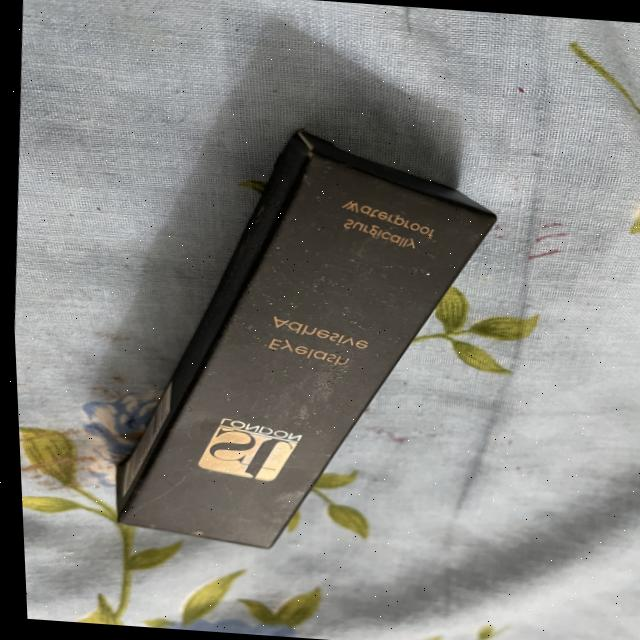gel: (77, 109, 557, 584)
